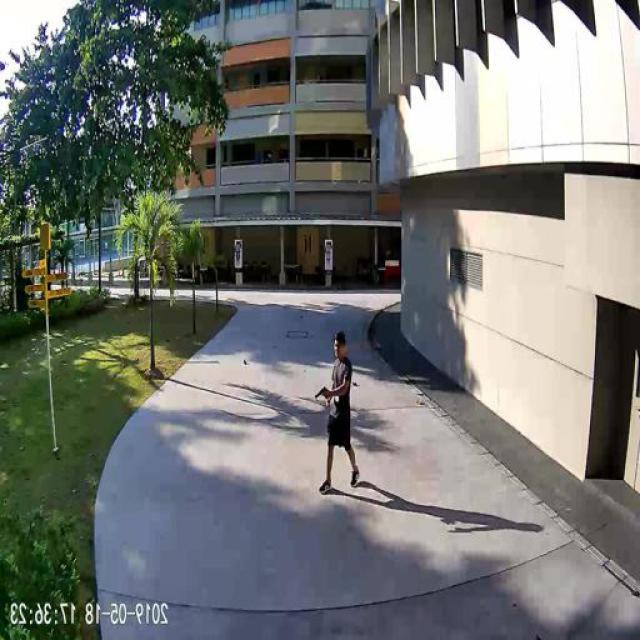weapon: (312, 389, 330, 402)
